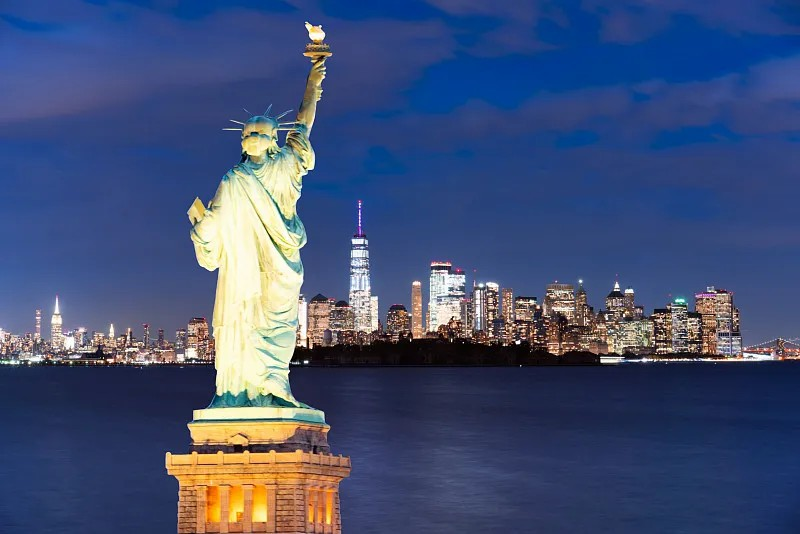SL: (165, 20, 351, 534)
